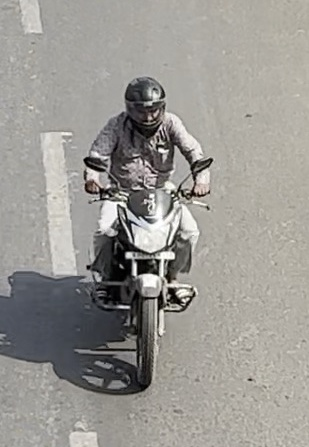BikeWithRider: (80, 72, 215, 392)
Helmet: (122, 74, 171, 137)
